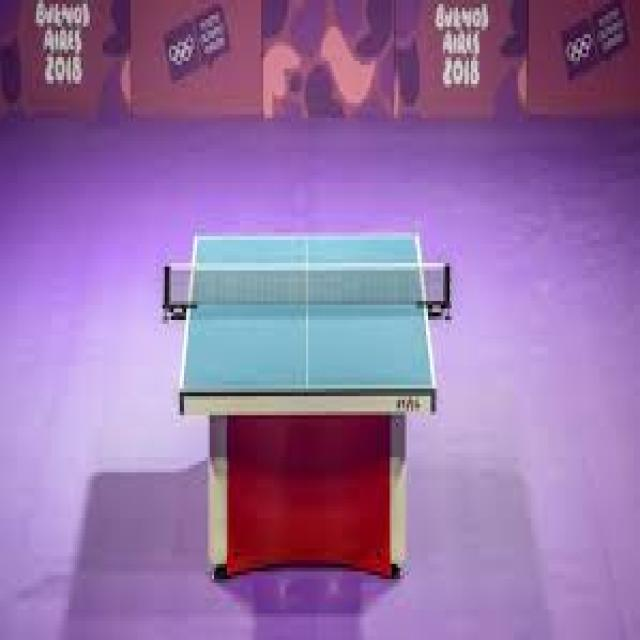obstacle: (167, 150, 464, 582)
